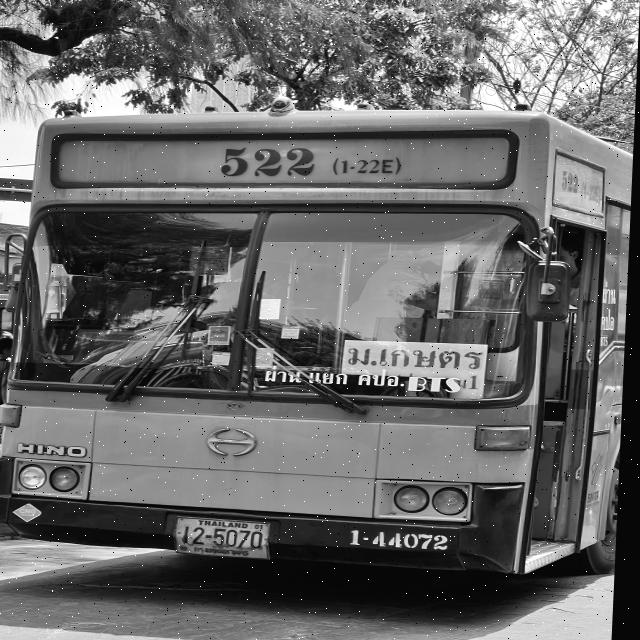BMTA-bus: (0, 109, 636, 577)
Bus-Line-Number: (210, 140, 419, 183)
Destination-Sign-Normal-Expressway: (347, 340, 487, 398)
